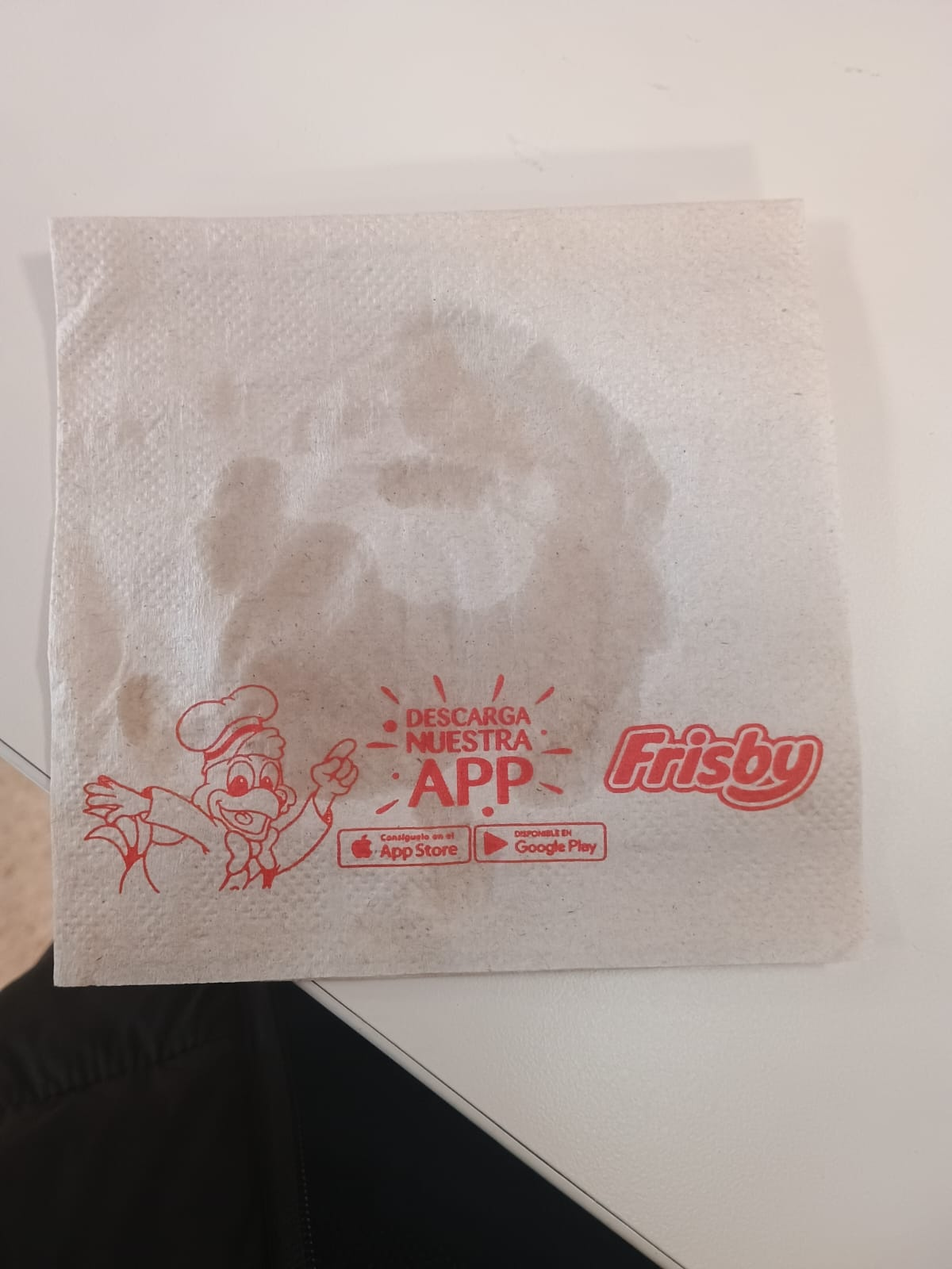Ordinario: (46, 202, 901, 989)
